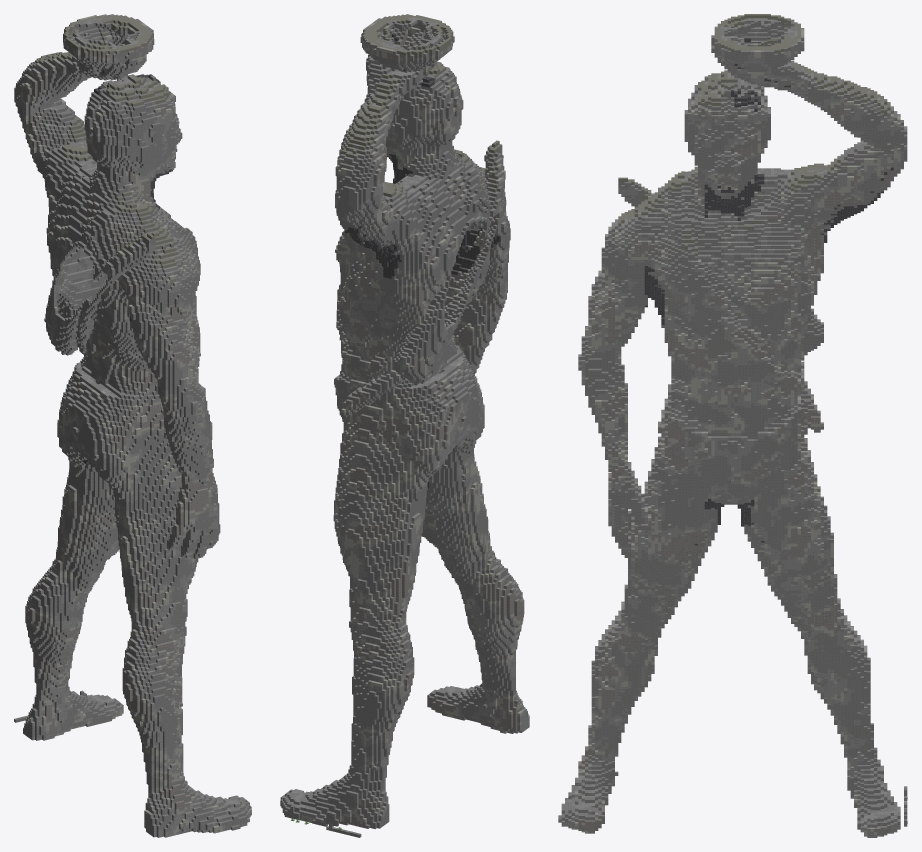
Rendered from colossus.glb.
3 views of the same model, side by side, from view 1: azimuth 30°, elevation 25°; view 2: azimuth 150°, elevation 25°; view 3: azimuth 270°, elevation 25° (orthographic). The views are drawn at different scales.
Parts seen in each view (by area): view 1: Stone; view 2: Stone; view 3: Stone.
Part boxes in pixels (<box>): Stone: <box>14,14,251,837</box>; Stone: <box>280,14,529,837</box>; Stone: <box>558,14,907,837</box>.
Bounding box in the file's own units: 42 × 256 × 105.
Materials: 2 (2 with a texture image).
